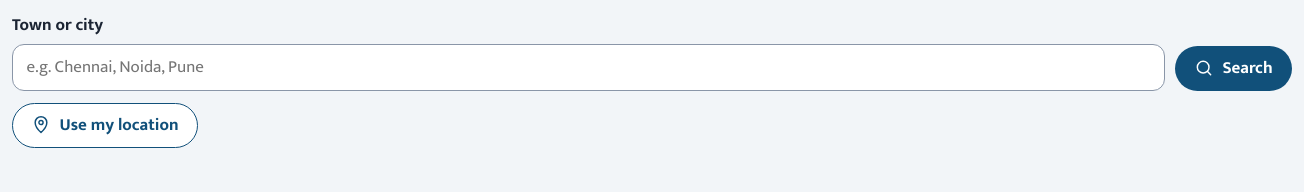
Test case: PlaceSearch › shows progress while locating and explains a refusal
Later steps or results of the test are not shown.
Click the button "Use my location" at (105, 125), box [12,103,198,148]
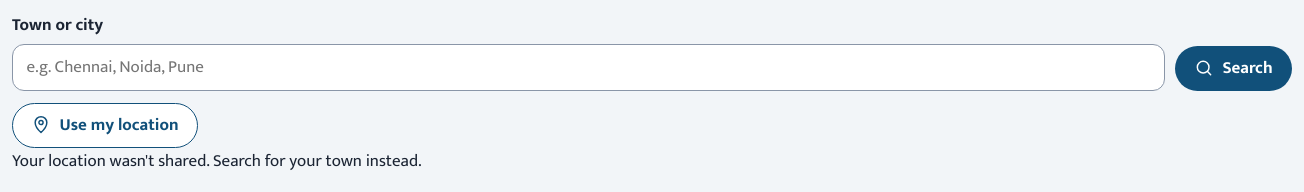
Result: the text "Your location wasn't shared. Search for your town instead." is shown at [12,147,422,175]
